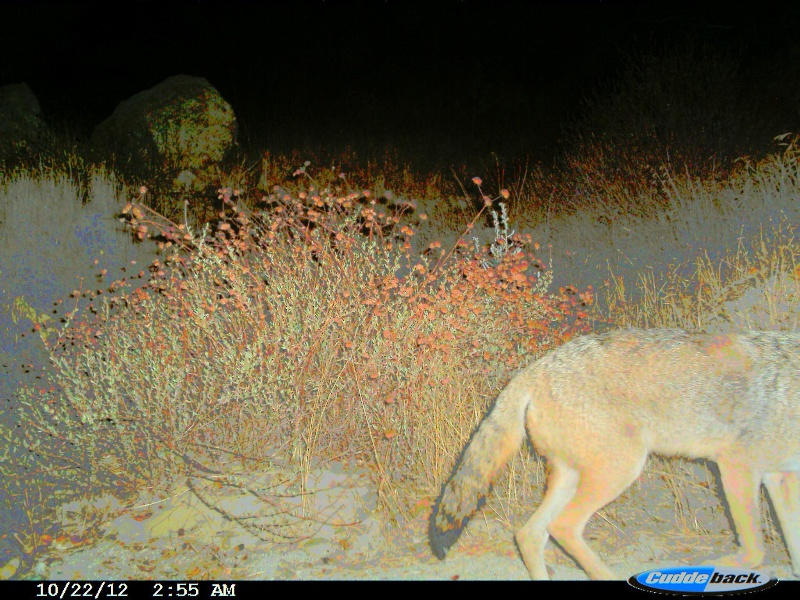coyote: (422, 319, 800, 583)
